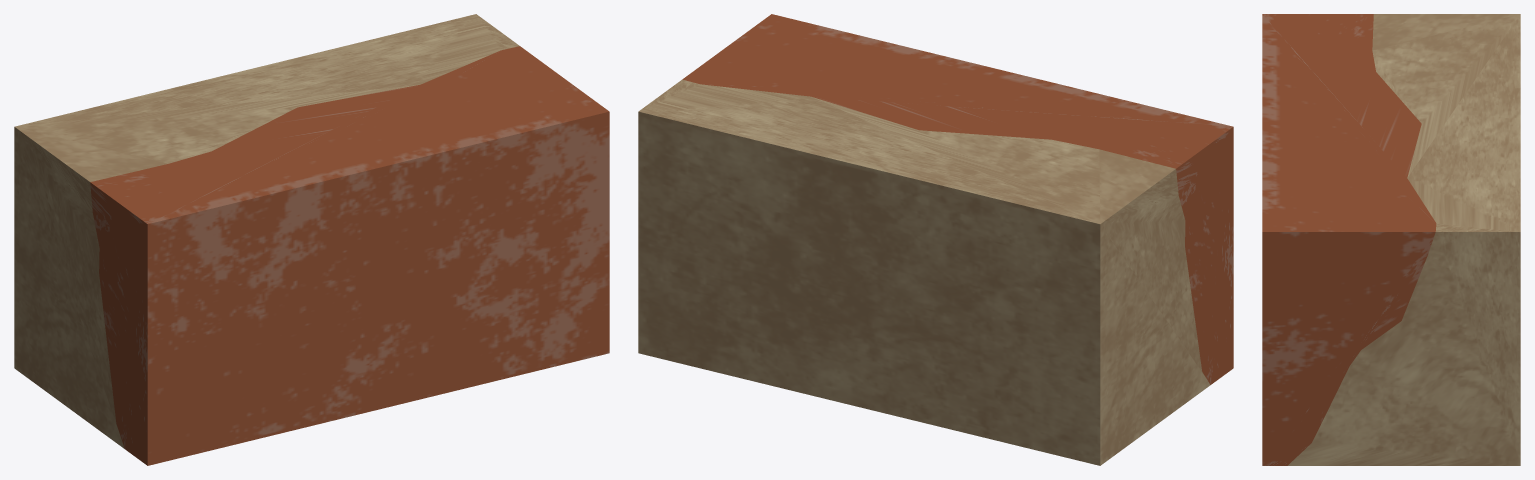
File: sand_ground_sanddirt.fbx
3 views of the same model, side by side, from view 1: azimuth 30°, elevation 25°; view 2: azimuth 150°, elevation 25°; view 3: azimuth 270°, elevation 25° (orthographic). The views are drawn at different scales.
Visible parts, largest first — view 1: desert_ground_sanddirt; view 2: desert_ground_sanddirt; view 3: desert_ground_sanddirt.
Boxes of the visible parts, <box> form: desert_ground_sanddirt: <box>14,14,609,465</box>; desert_ground_sanddirt: <box>638,14,1233,465</box>; desert_ground_sanddirt: <box>1262,14,1520,465</box>.
Size of the model in its own units: 200 by 100 by 100.
